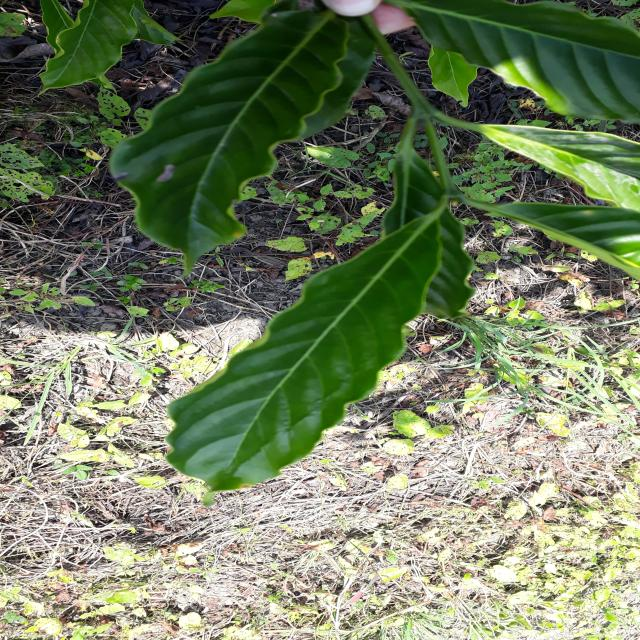Enfermedad-Roya: (165, 120, 472, 493)
